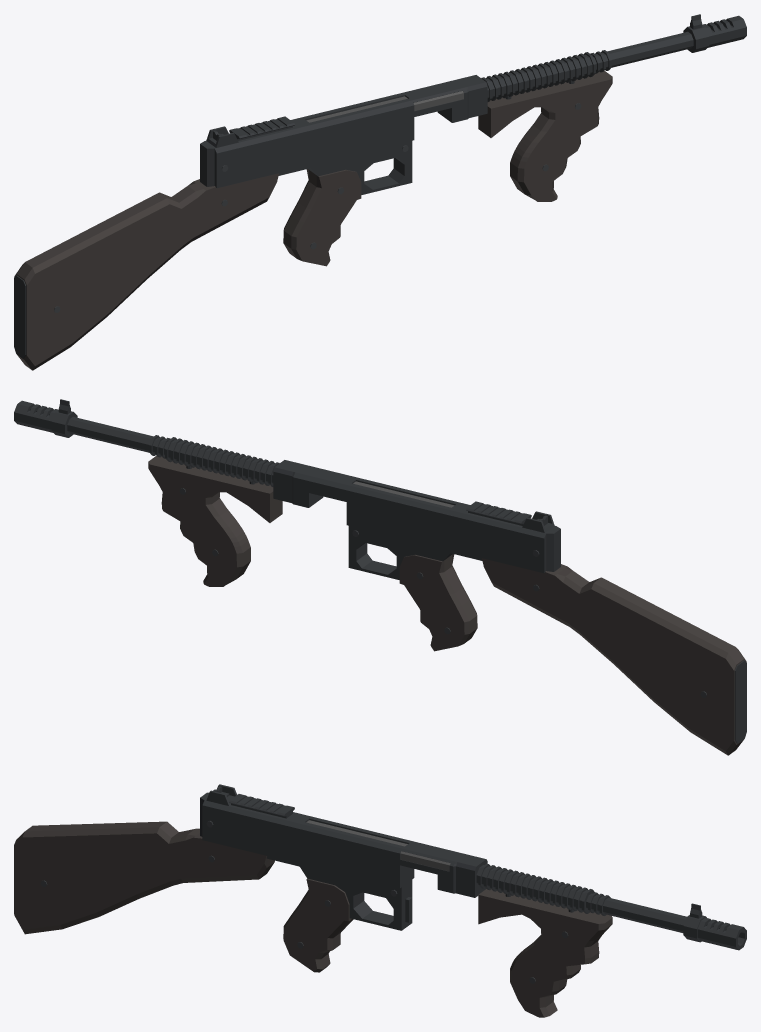
Rendered from LMG4_03.fbx.
The picture shows the model from 3 angles, top to bottom: view 1: azimuth 30°, elevation 25°; view 2: azimuth 150°, elevation 25°; view 3: azimuth 330°, elevation 25°; orthographic projection.
Parts seen in each view (by area): view 1: LMG4_03; view 2: LMG4_03; view 3: LMG4_03.
Part boxes in pixels (x1,y1,x2,y2): LMG4_03: (14, 14, 746, 370); LMG4_03: (14, 399, 746, 755); LMG4_03: (14, 784, 746, 1017).
Size of the model in its own units: 0.9676 by 0.2429 by 0.036.
